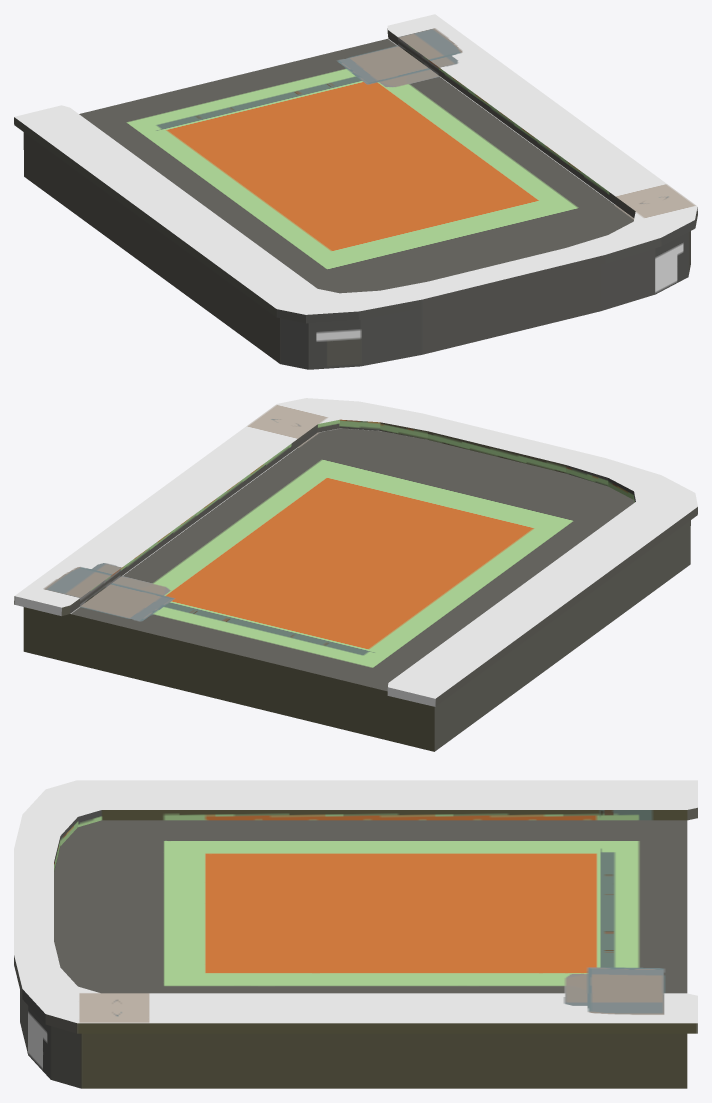
File: steps01.fbx
The picture shows the model from 3 angles, top to bottom: view 1: azimuth 30°, elevation 25°; view 2: azimuth 150°, elevation 25°; view 3: azimuth 270°, elevation 25°; orthographic projection. The views are drawn at different scales.
Parts seen in each view (by area): view 1: steps01; view 2: steps01; view 3: steps01.
Boxes of the visible parts, x1=… form: steps01: x1=14, y1=14, x2=697, y2=369; steps01: x1=14, y1=398, x2=697, y2=751; steps01: x1=14, y1=780, x2=697, y2=1088.
Size of the model in its own units: 588 by 76.92 by 699.
1 material, 1 textured.
